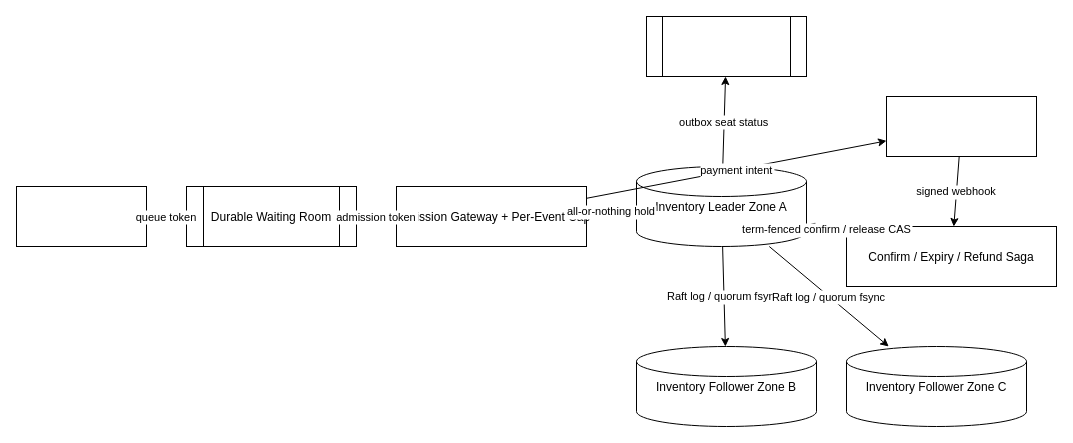
Some shapes in this 1073 by 443 pixel diagram are drawn without their labels. The shapes that lost their labels are listed below. From the top down, each one's centre as x and y in pixels, then its label:
At (726,46): "Seat Change Fanout".
At (961,126): "Payment Provider".
At (81,216): "Fans + Bots".
